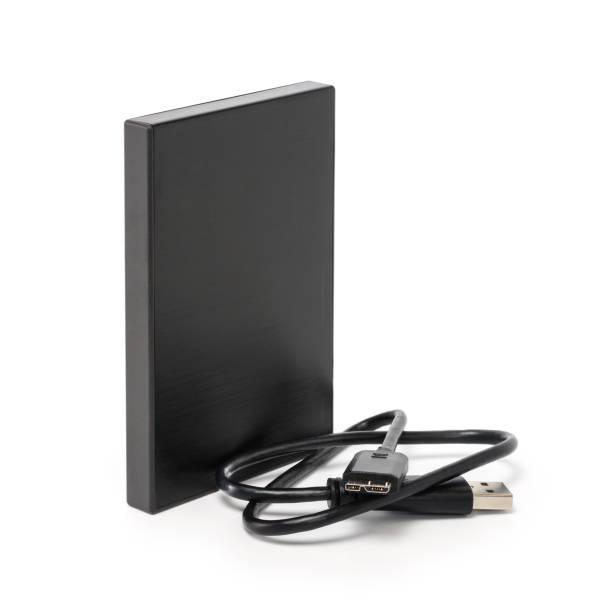HDD: (122, 81, 338, 516)
